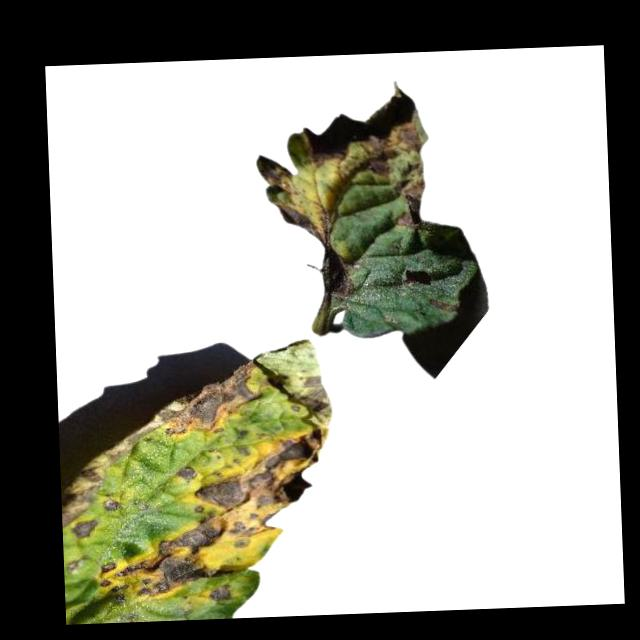Early_blight: (56, 338, 339, 610), (260, 80, 436, 300), (428, 298, 456, 314)
